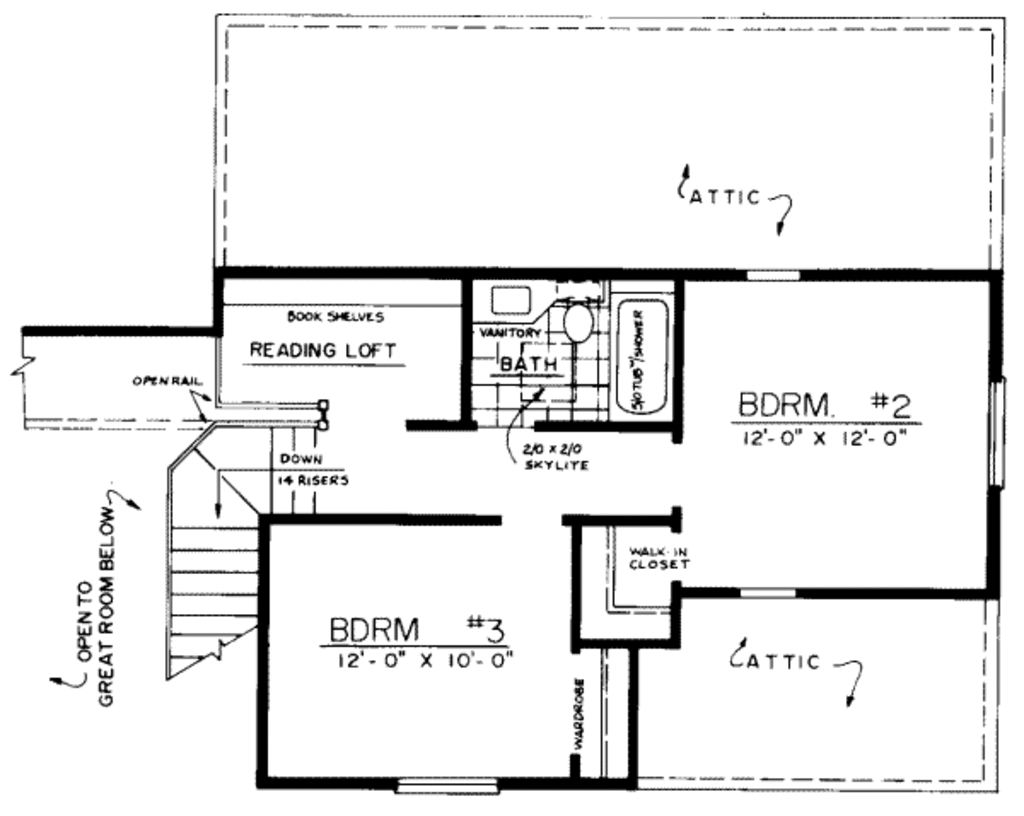large_sink: (545, 276, 601, 348)
small_sink: (479, 279, 539, 320)
stairs: (146, 399, 349, 681)
tub: (604, 280, 675, 420)
window: (389, 766, 501, 800), (987, 372, 1011, 494), (728, 579, 802, 600), (747, 262, 799, 286)
